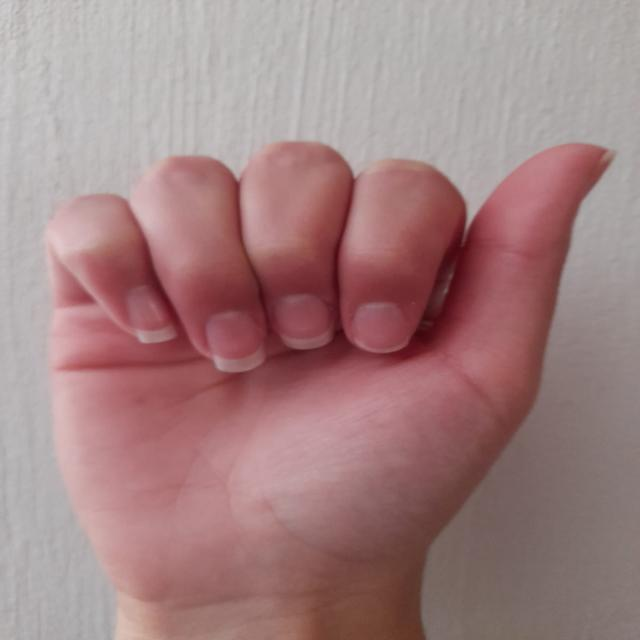A: (16, 114, 627, 618)
